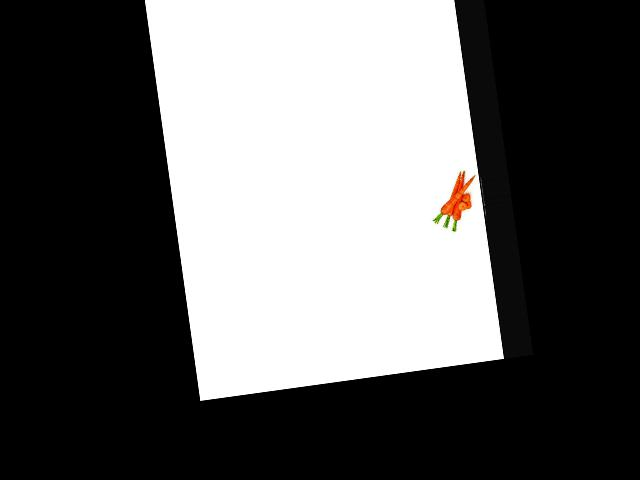carrot: (440, 169, 469, 226)
